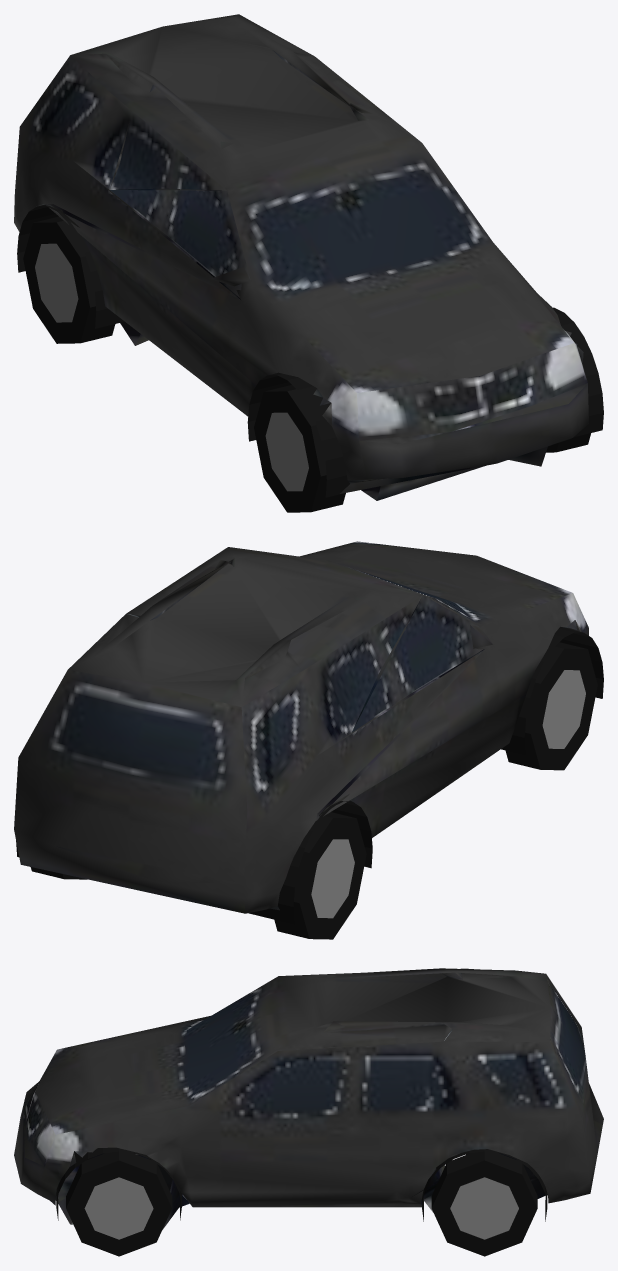
File: suv-black-far.glb
3 views of the same model, one above another, from view 1: azimuth 30°, elevation 25°; view 2: azimuth 150°, elevation 25°; view 3: azimuth 270°, elevation 25° (orthographic). The views are drawn at different scales.
Visible parts, largest first — view 1: suv-far; view 2: suv-far; view 3: suv-far.
Boxes of the visible parts, x1,y1,x2,y2 form: suv-far: (14, 14, 603, 512); suv-far: (14, 541, 603, 939); suv-far: (14, 968, 603, 1256).
Size of the model in its own units: 2.04 by 1.84 by 4.7.
Materials: 1 (1 with a texture image).
